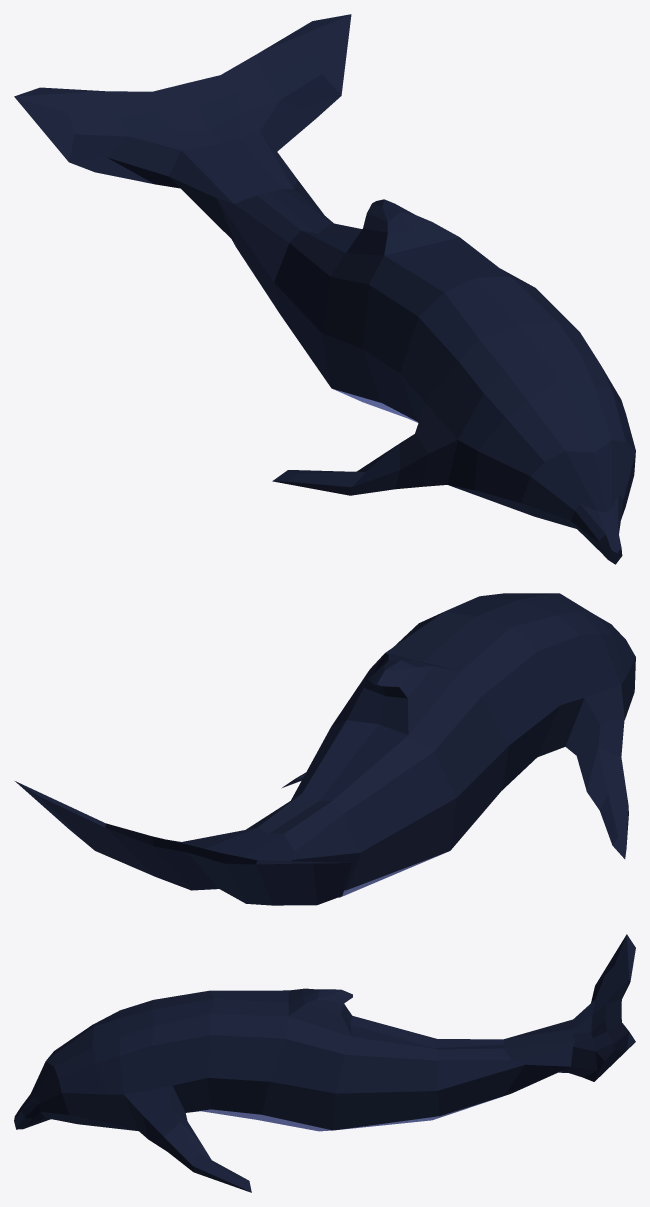
File: uploads_files_2454915_Dolphin.obj
3 views of the same model, one above another, from view 1: azimuth 30°, elevation 25°; view 2: azimuth 150°, elevation 25°; view 3: azimuth 270°, elevation 25° (orthographic). The views are drawn at different scales.
Parts seen in each view (by area): view 1: Dolphin_DolphinMesh; view 2: Dolphin_DolphinMesh; view 3: Dolphin_DolphinMesh.
Boxes of the visible parts, x1,y1,x2,y2 form: Dolphin_DolphinMesh: (14, 14, 635, 564); Dolphin_DolphinMesh: (15, 593, 635, 905); Dolphin_DolphinMesh: (14, 934, 635, 1192).
Bounding box in the file's own units: 1.68 × 0.959 × 3.72.
